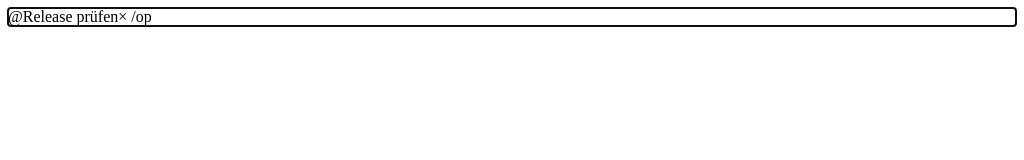
pills in RichMentionInput › opens the list for a trigger after a pill, where the browser typed a non-breaking space
Clear the field at (80, 16), box 8,8 -> 152,25
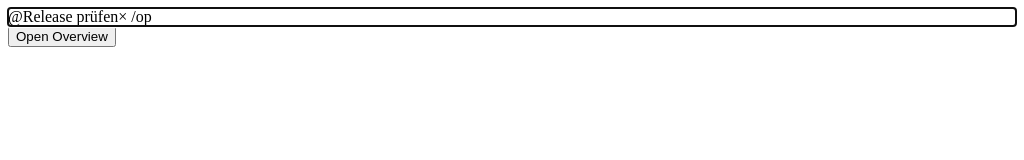
Now the list is shown, box 8,26 -> 116,47
Press Enter in the field, box 8,8 -> 152,25
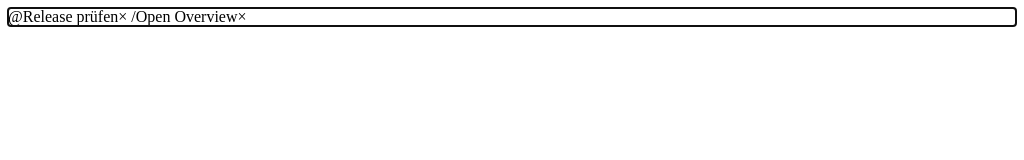
Now the field no longer shows "/op"
